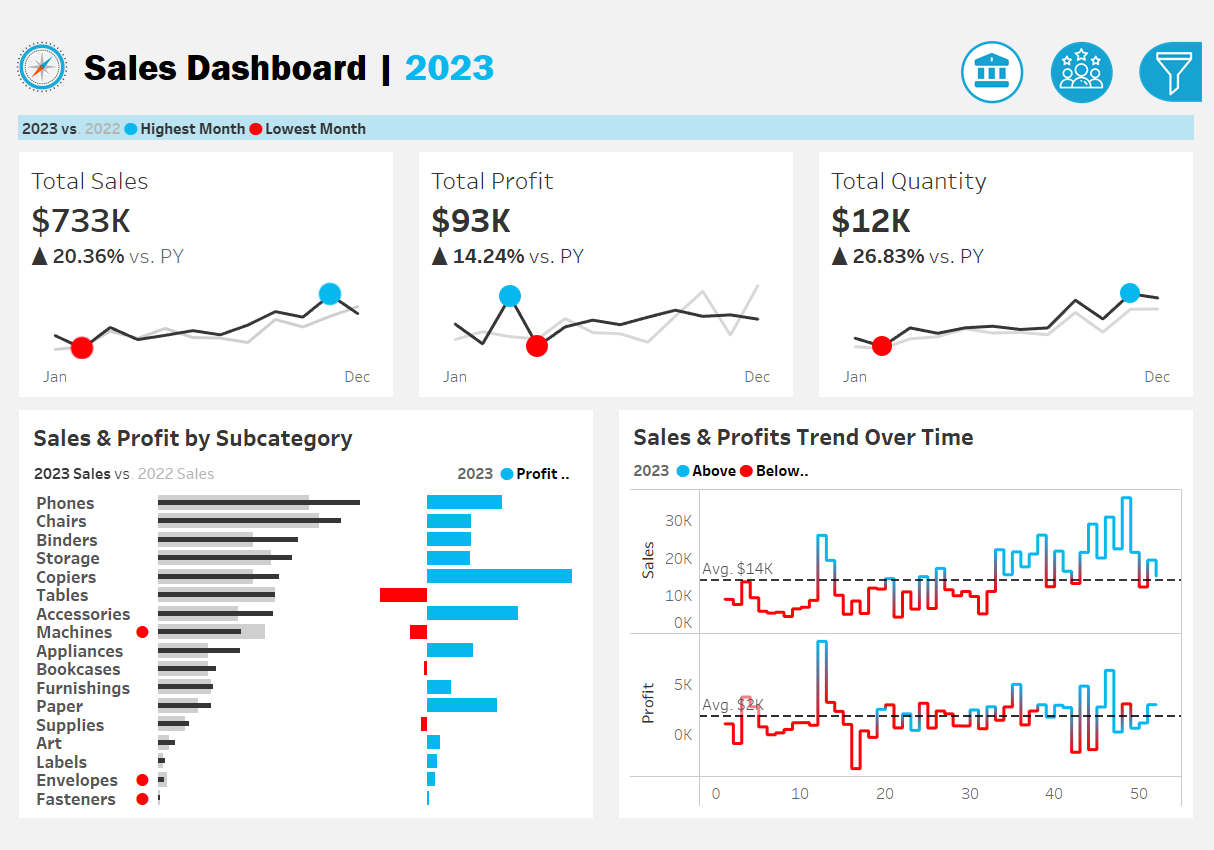

What the dashboard file says about the page in this screenshot:
{"tool":"tableau","page":{"name":"Sales Dashboard","canvas":[1200,800],"ordinal":1},"visuals":[{"type":"image","param":"Image/Icon - Logo.png","box":[0,0,71,72]},{"type":"text","box":[71,0,855,72]},{"type":"dashboard-object","box":[942,5,89,72]},{"type":"dashboard-object","box":[1031,5,89,72]},{"type":"blank","box":[980,10,215,36]},{"type":"text","box":[980,46,215,40]},{"type":"worksheet","title":"legend (2)","mark":"Automatic","box":[0,72,1200,49]},{"type":"parameter","param":"[Parameters].[Parameter 1]","box":[980,86,215,56]},{"type":"worksheet","title":"KPI Sales","mark":"Automatic","rows":["Calculation_1577385775788593156"],"cols":["Order Date"],"box":[0,121,400,258]},{"type":"worksheet","title":"kpi profit","mark":"Line","rows":["Calculation_1577385775815970832"],"cols":["Order Date"],"box":[400,121,400,258]},{"type":"worksheet","title":"KPI Quantities","mark":"Automatic","rows":["Calculation_311874280747704321"],"cols":["Order Date"],"box":[800,121,400,258]},{"type":"blank","box":[980,142,215,43]},{"type":"text","box":[980,185,215,33]},{"type":"filter","title":"KPI Sales","param":"[federated.1dv4lqx0tpl00o11shjqw0yc9drh].[none:Category:nk]","box":[980,218,215,61]},{"type":"filter","title":"KPI Sales","param":"[federated.1dv4lqx0tpl00o11shjqw0yc9drh].[none:Sub-Category:nk]","box":[980,279,215,61]},{"type":"text","box":[20,386,560,40]},{"type":"text","box":[620,386,560,37.9]},{"type":"text","box":[980,395,215,33]},{"type":"text","box":[620,423.9,560,30.2]},{"type":"worksheet","title":"legend","mark":"Automatic","box":[20,426,424,32]},{"type":"text","box":[444,426,136,32]},{"type":"filter","title":"KPI Sales","param":"[federated.1dv4lqx0tpl00o11shjqw0yc9drh].[none:State:nk]","box":[980,428,215,61]},{"type":"worksheet","title":"Weekly Trends","mark":"Automatic","rows":["Calculation_1577385775782256640","Calculation_1577385775812222987"],"cols":["Order Date"],"box":[620,454.1,560,325.9]},{"type":"worksheet","title":"Subcategory comparison","mark":"Bar","rows":["Sub-Category","Calculation_311874280769159170"],"cols":["Calculation_1577385775782612993","Calculation_1577385775782256640","Calculation_1577385775812222987"],"box":[20,458,560,321.9]},{"type":"filter","title":"KPI Sales","param":"[federated.1dv4lqx0tpl00o11shjqw0yc9drh].[none:Region:nk]","box":[980,489,215,61]},{"type":"filter","title":"KPI Sales","param":"[federated.1dv4lqx0tpl00o11shjqw0yc9drh].[none:City:nk]","box":[980,550,215,61]}]}

Visuals, with their boxes on the page's 1200x800 design canvas (x1, y1, x2, y2). These are canvas units, not pixel positions in the 1214x850 screenshot, which may show the page scaled, cropped or inside an application window:
image: (x1=0, y1=0, x2=71, y2=72)
text: (x1=71, y1=0, x2=926, y2=72)
dashboard-object: (x1=942, y1=5, x2=1031, y2=77)
dashboard-object: (x1=1031, y1=5, x2=1120, y2=77)
blank: (x1=980, y1=10, x2=1195, y2=46)
text: (x1=980, y1=46, x2=1195, y2=86)
"legend (2)" worksheet: (x1=0, y1=72, x2=1200, y2=121)
parameter: (x1=980, y1=86, x2=1195, y2=142)
"KPI Sales" worksheet: (x1=0, y1=121, x2=400, y2=379)
"kpi profit" worksheet (Line marks): (x1=400, y1=121, x2=800, y2=379)
"KPI Quantities" worksheet: (x1=800, y1=121, x2=1200, y2=379)
blank: (x1=980, y1=142, x2=1195, y2=185)
text: (x1=980, y1=185, x2=1195, y2=218)
"KPI Sales" filter: (x1=980, y1=218, x2=1195, y2=279)
"KPI Sales" filter: (x1=980, y1=279, x2=1195, y2=340)
text: (x1=20, y1=386, x2=580, y2=426)
text: (x1=620, y1=386, x2=1180, y2=424)
text: (x1=980, y1=395, x2=1195, y2=428)
text: (x1=620, y1=424, x2=1180, y2=454)
"legend" worksheet: (x1=20, y1=426, x2=444, y2=458)
text: (x1=444, y1=426, x2=580, y2=458)
"KPI Sales" filter: (x1=980, y1=428, x2=1195, y2=489)
"Weekly Trends" worksheet: (x1=620, y1=454, x2=1180, y2=780)
"Subcategory comparison" worksheet (Bar marks): (x1=20, y1=458, x2=580, y2=780)
"KPI Sales" filter: (x1=980, y1=489, x2=1195, y2=550)
"KPI Sales" filter: (x1=980, y1=550, x2=1195, y2=611)
